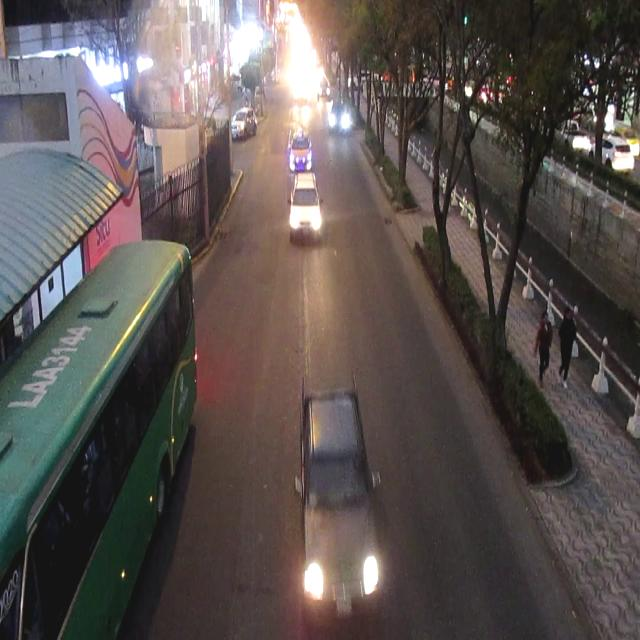BUS: (3, 242, 200, 640)
CMT: (298, 368, 374, 616)
SED: (288, 128, 311, 171)
SUV: (289, 176, 319, 244), (232, 111, 258, 141)
